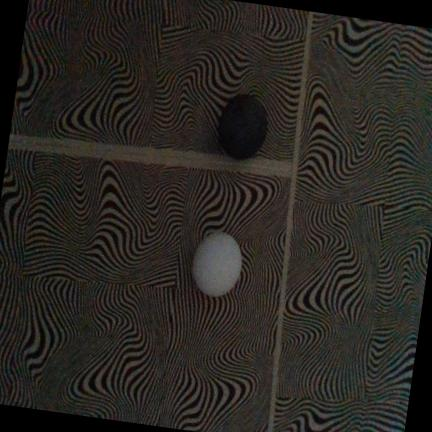Esfera: (218, 93, 268, 159), (192, 231, 242, 296)
